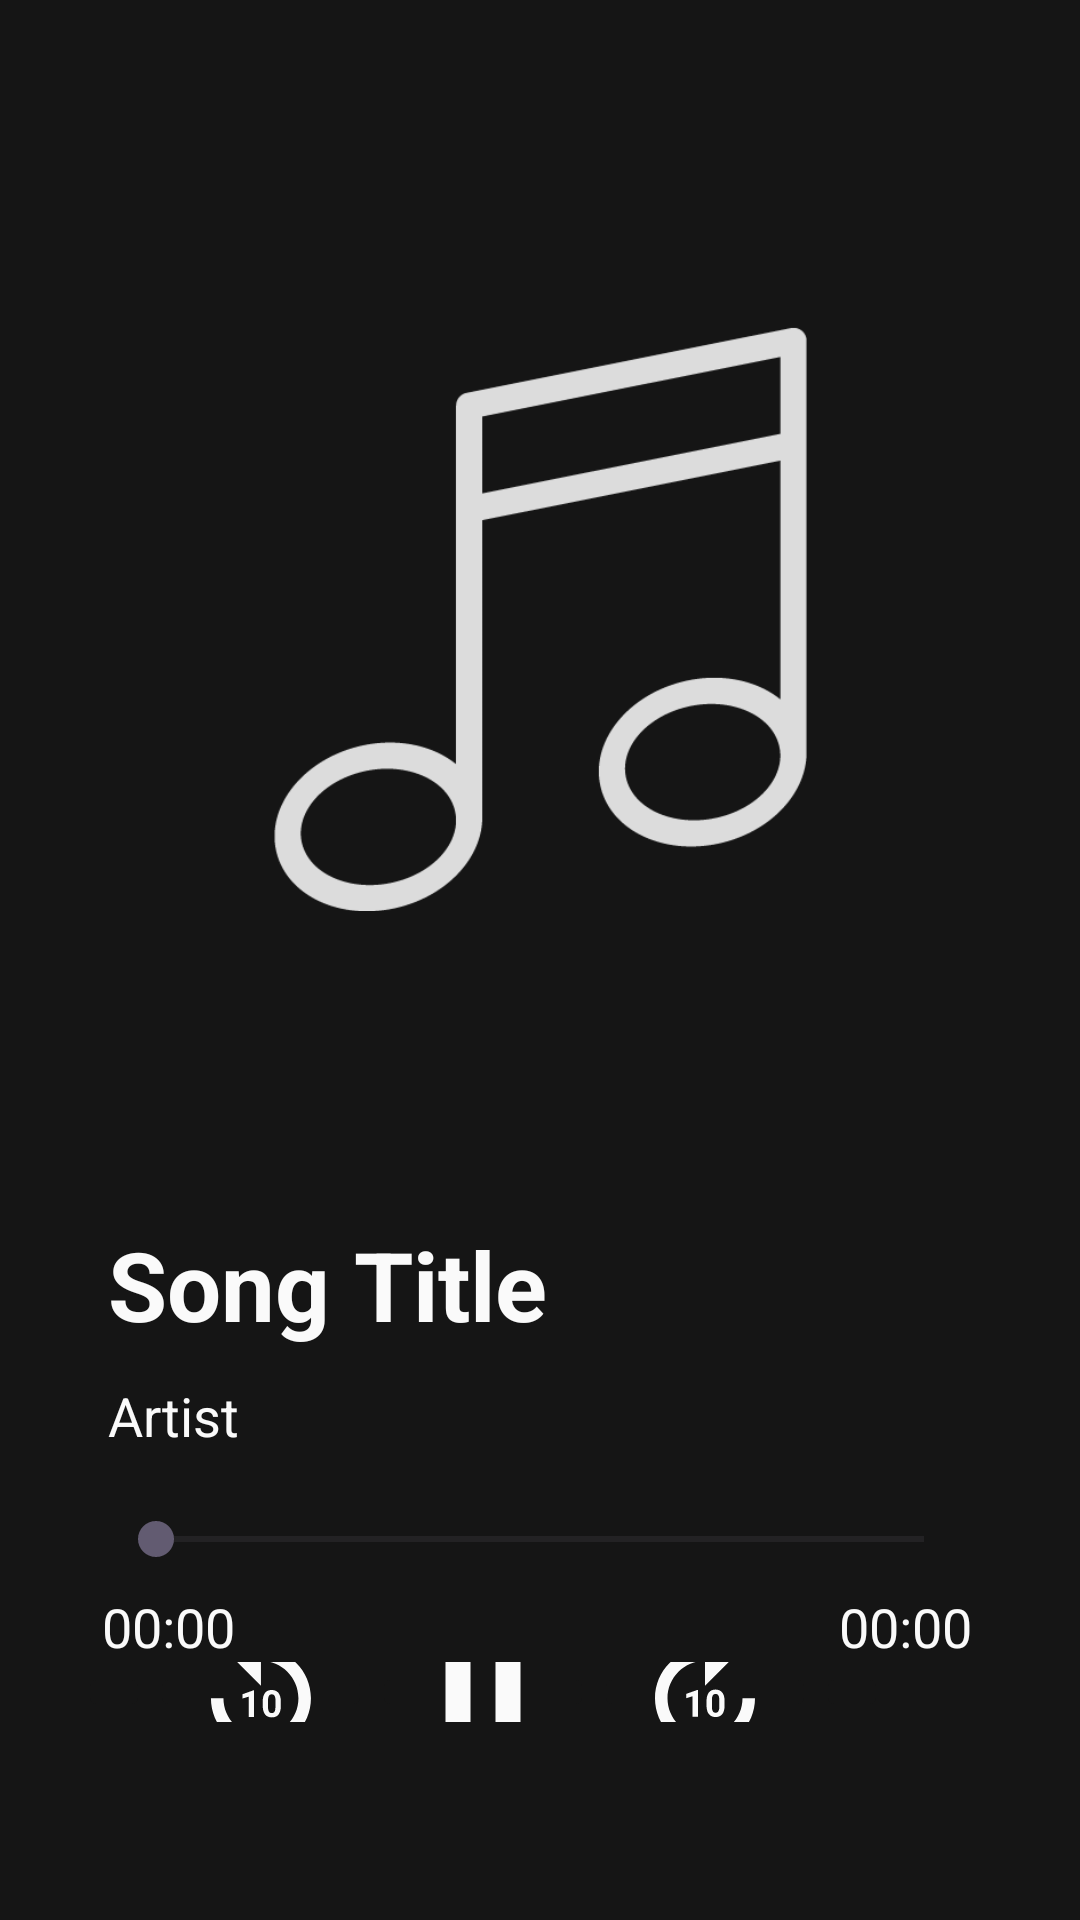

Where to tap for icons on this 1080px x 1920px app screen, as point (x, y):
forward: point (705, 1692)
pause: point (483, 1692)
replay: point (261, 1692)
